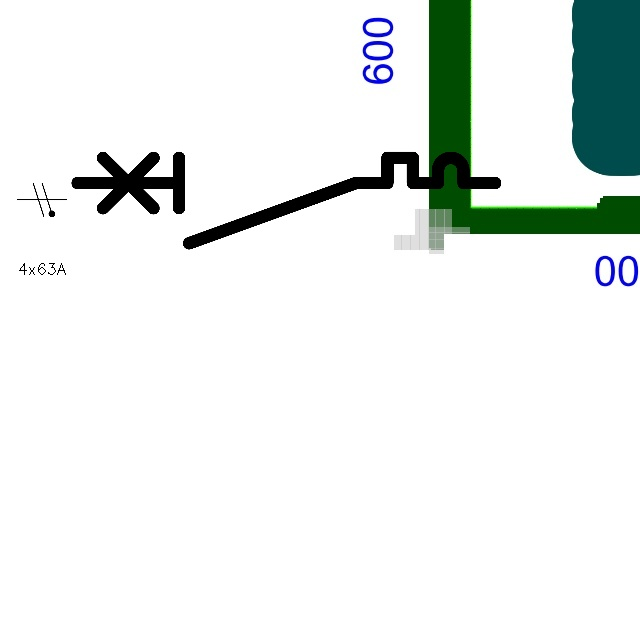interruptor_termomagnetico: (66, 147, 505, 254)
